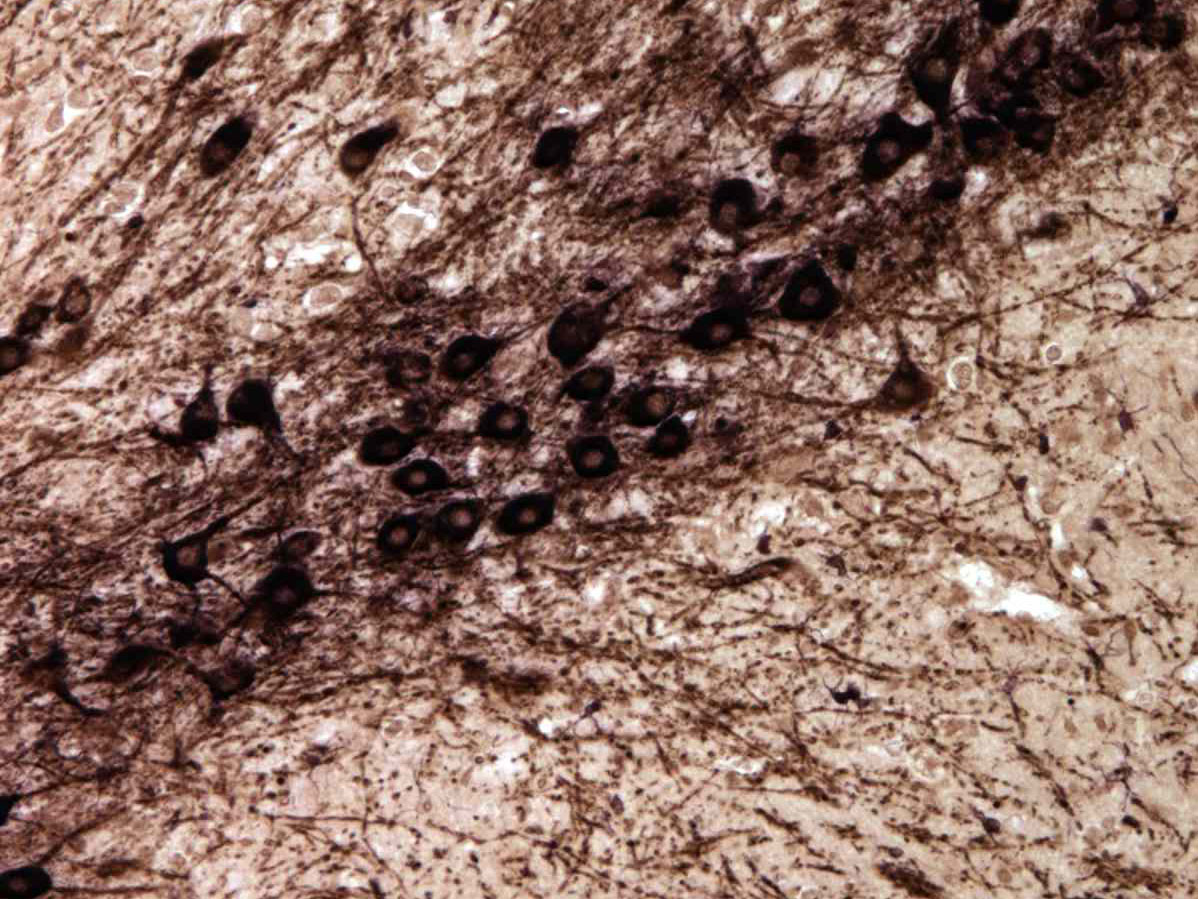neuron: (775, 268, 848, 325), (871, 358, 944, 415), (437, 328, 506, 380), (704, 179, 762, 234), (863, 120, 921, 175), (903, 46, 961, 101), (375, 511, 426, 557), (166, 531, 217, 577), (257, 570, 308, 616), (397, 453, 448, 499), (504, 490, 555, 536), (437, 496, 488, 542), (198, 122, 249, 168), (340, 126, 391, 172), (565, 362, 616, 408), (955, 117, 1006, 163), (477, 405, 535, 444), (566, 435, 622, 474), (628, 384, 680, 422), (689, 314, 741, 352), (773, 131, 819, 173), (1025, 118, 1062, 157), (981, 76, 1018, 115), (1013, 34, 1050, 73), (1061, 55, 1098, 94), (1, 860, 37, 899)
